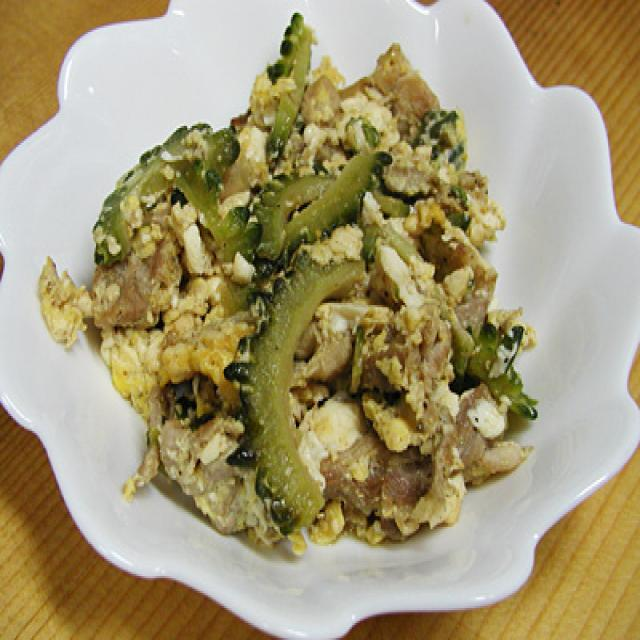熟制海鲜: (48, 15, 533, 540)
